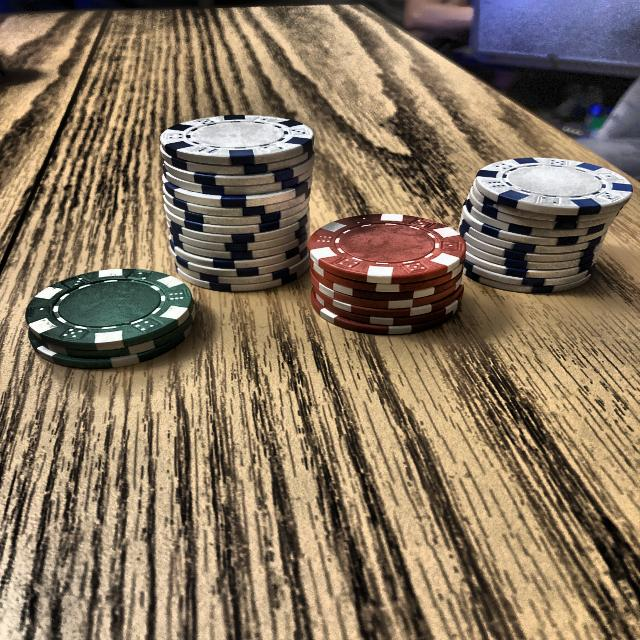Chip: (146, 101, 320, 311), (299, 195, 474, 347), (452, 154, 622, 298), (22, 255, 214, 374)
